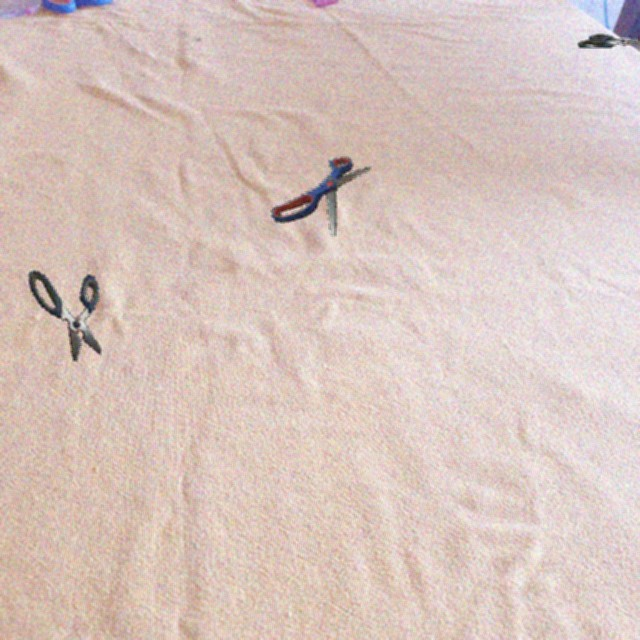scissors: (271, 157, 371, 236), (28, 270, 101, 361), (578, 34, 640, 48)
